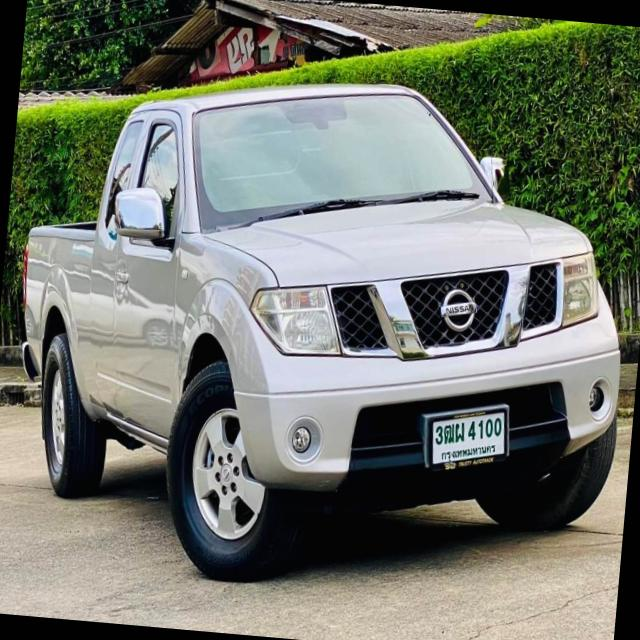license_plate: (418, 397, 516, 478)
